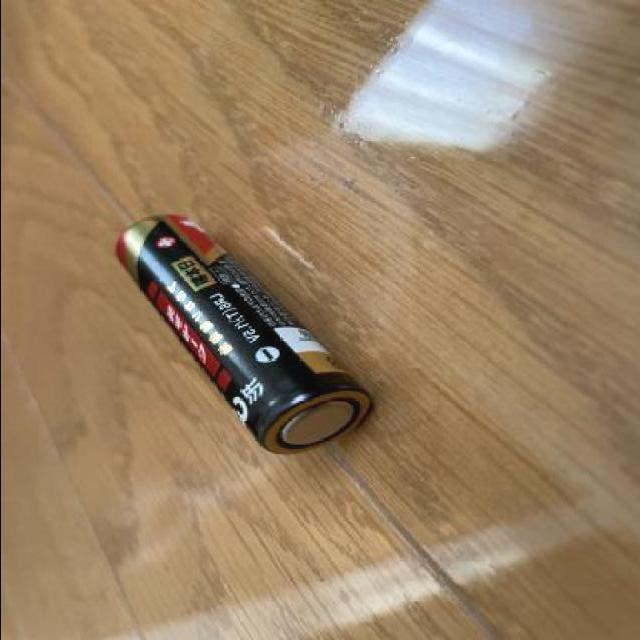AA: (106, 209, 377, 466)
